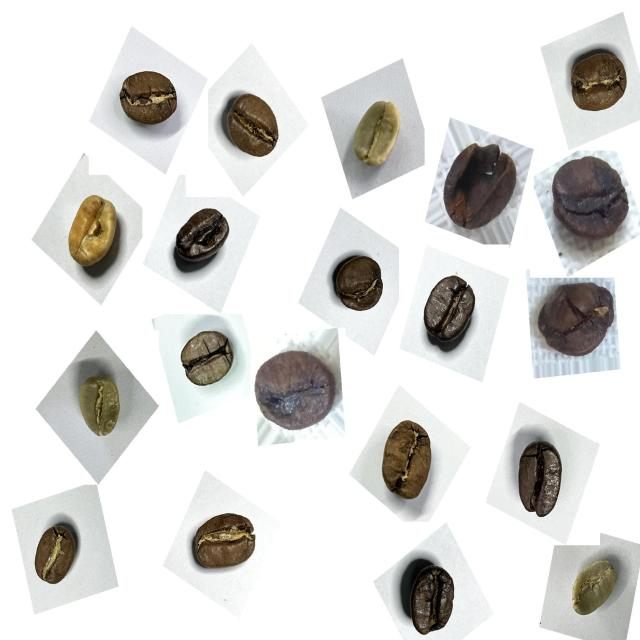bad: (246, 336, 344, 440), (436, 133, 524, 244), (544, 148, 633, 254), (530, 275, 620, 373)
dark: (507, 428, 580, 532), (390, 549, 469, 637), (413, 261, 485, 357), (164, 196, 242, 282), (111, 53, 187, 140), (559, 37, 634, 125)
green: (338, 86, 410, 181), (63, 362, 131, 450), (562, 550, 624, 633)
light: (50, 180, 132, 286)
medium: (370, 410, 449, 519), (184, 499, 268, 584), (216, 81, 288, 168), (169, 319, 242, 399), (23, 511, 89, 596), (325, 246, 394, 323)
